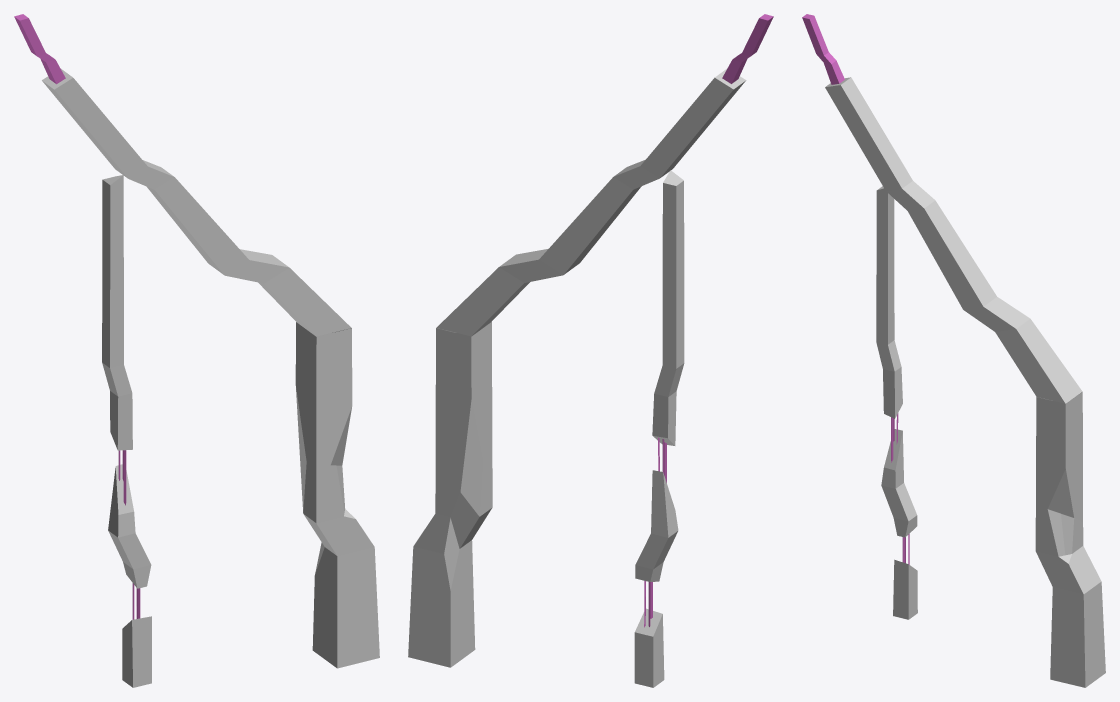
File: pillar6_low.fbx
3 renders of one model, left to right at view 1: azimuth 30°, elevation 25°; view 2: azimuth 150°, elevation 25°; view 3: azimuth 330°, elevation 25°, orthographic. The views are drawn at different scales.
Parts seen in each view (by area): view 1: pillar6_low; view 2: pillar6_low; view 3: pillar6_low.
Part boxes in pixels (box(x1,y1,x2,y2)): pillar6_low: box(14, 14, 379, 687); pillar6_low: box(408, 14, 773, 687); pillar6_low: box(802, 14, 1105, 687).
Size of the model in its own units: 4864 by 9491 by 592.
